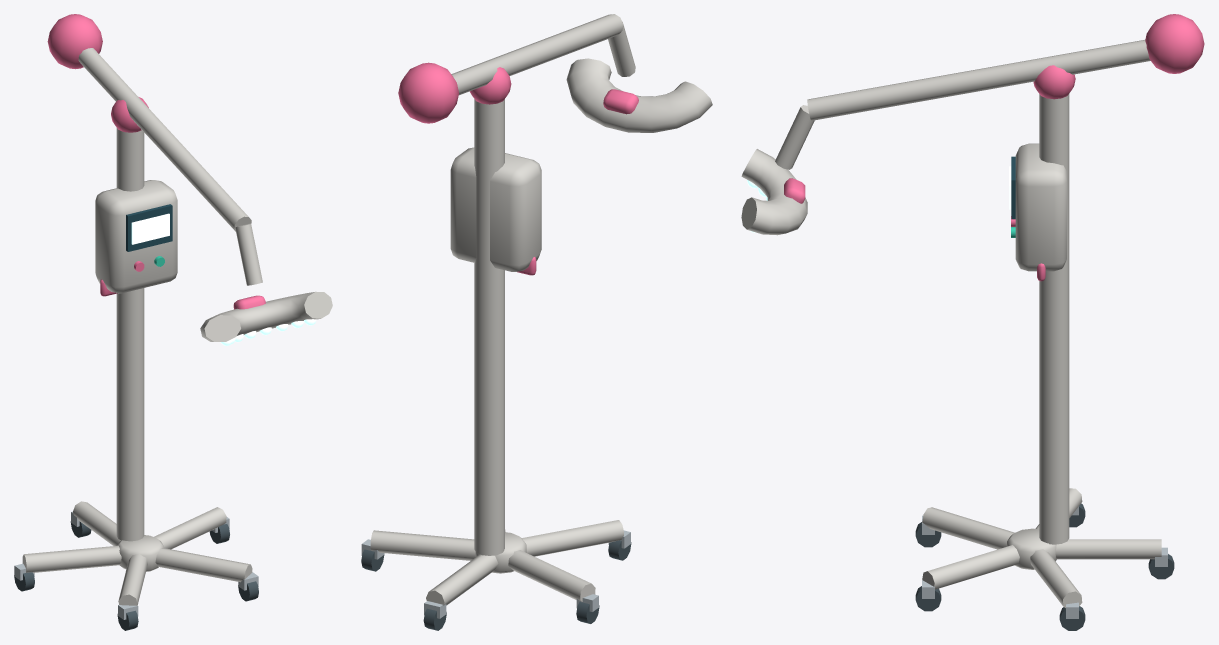
Rendered from whitening_lamp.glb.
3 views of the same model, side by side, from view 1: azimuth 30°, elevation 25°; view 2: azimuth 150°, elevation 25°; view 3: azimuth 270°, elevation 25° (orthographic). The views are drawn at different scales.
Parts seen in each view (by area): view 1: WhiteningLamp; view 2: WhiteningLamp; view 3: WhiteningLamp.
Part boxes in pixels (x1,y1,x2,y2): WhiteningLamp: [14, 14, 332, 630]; WhiteningLamp: [361, 14, 712, 630]; WhiteningLamp: [741, 14, 1204, 630].
Bounding box in the file's own units: 0.6126 × 1.44 × 1.08.
